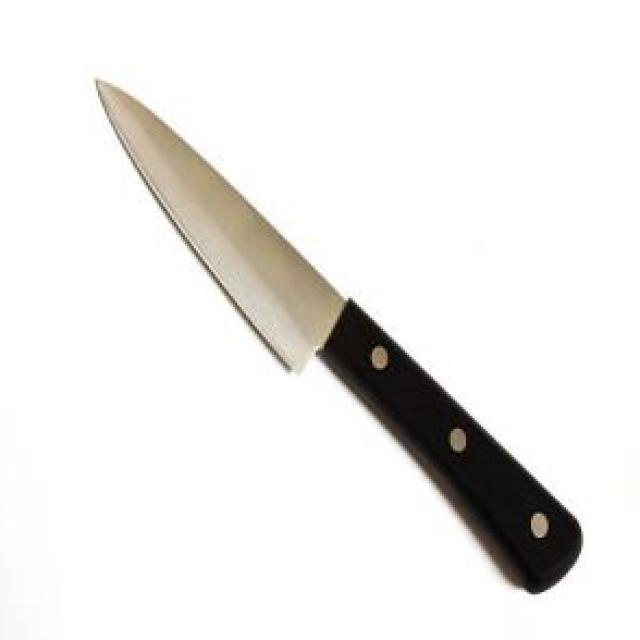knife: (92, 76, 584, 600)
